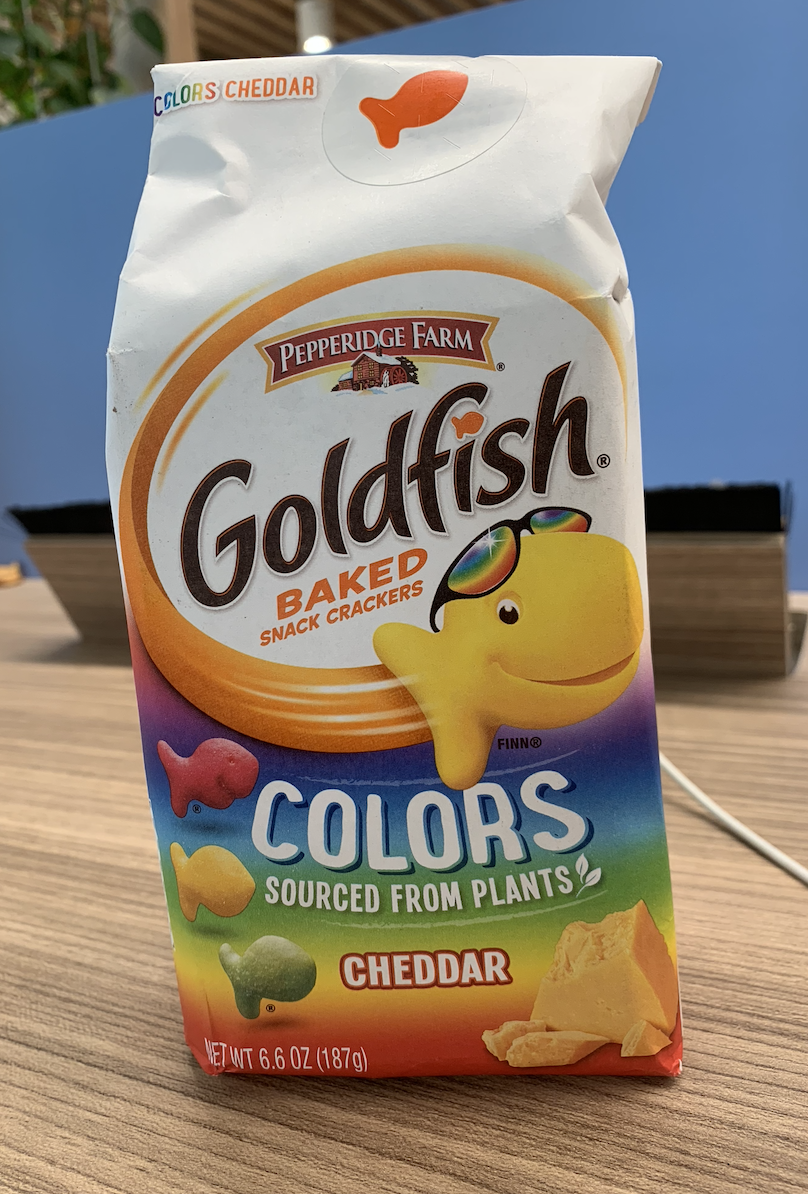crackers_100g-199g: (166, 87, 679, 1084)
